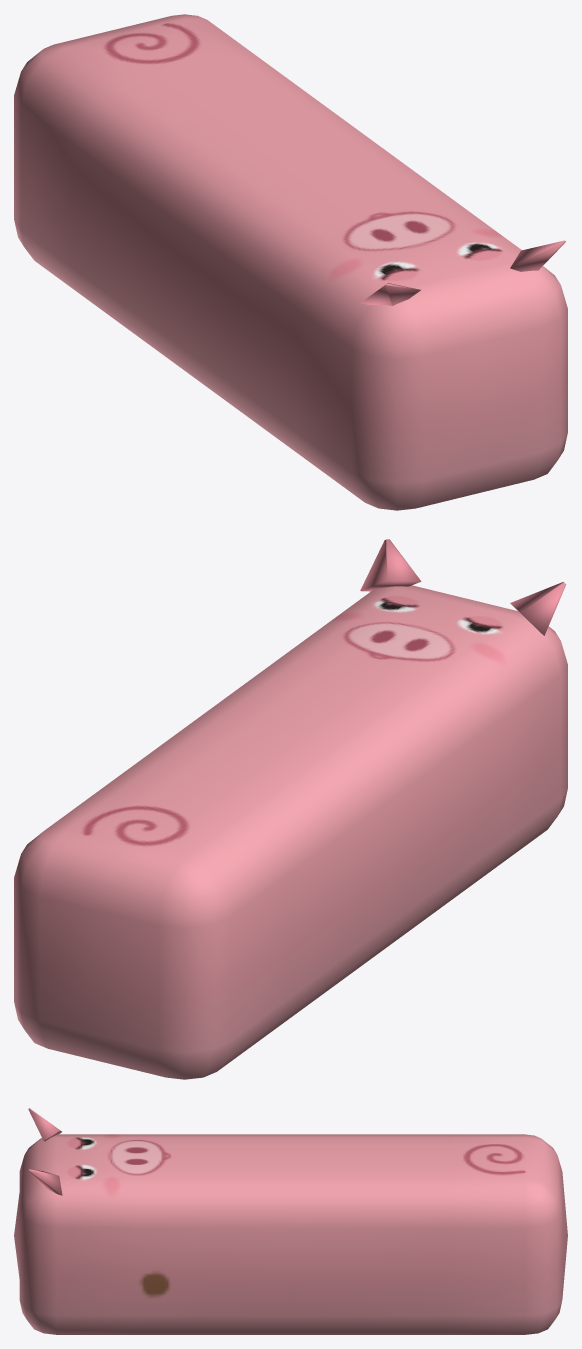
File: Pig_3x1.fbx
The picture shows the model from 3 angles, top to bottom: view 1: azimuth 30°, elevation 25°; view 2: azimuth 150°, elevation 25°; view 3: azimuth 270°, elevation 25°; orthographic projection. The views are drawn at different scales.
Visible parts, largest first — view 1: Pig_3x1; view 2: Pig_3x1; view 3: Pig_3x1.
Boxes of the visible parts, <box> form: Pig_3x1: <box>14,14,567,510</box>; Pig_3x1: <box>14,539,567,1079</box>; Pig_3x1: <box>14,1108,567,1334</box>.
Size of the model in its own units: 0.98 by 0.9771 by 2.98.
Materials: 1 (1 with a texture image).
